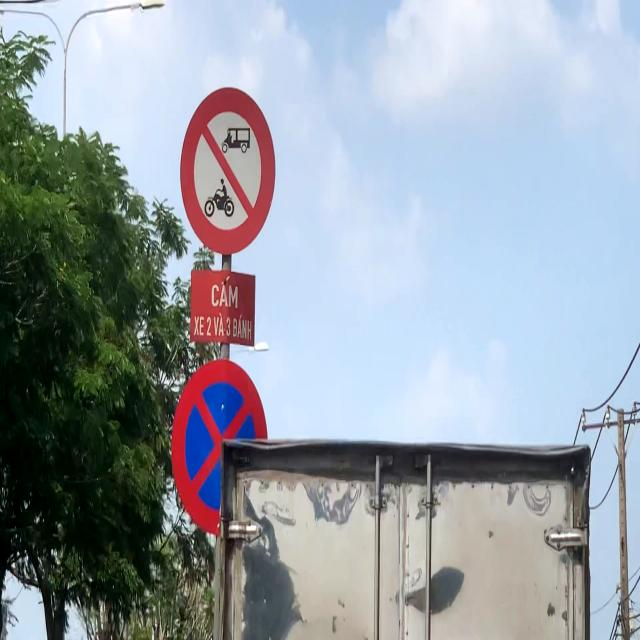P.130: (165, 350, 277, 545)
